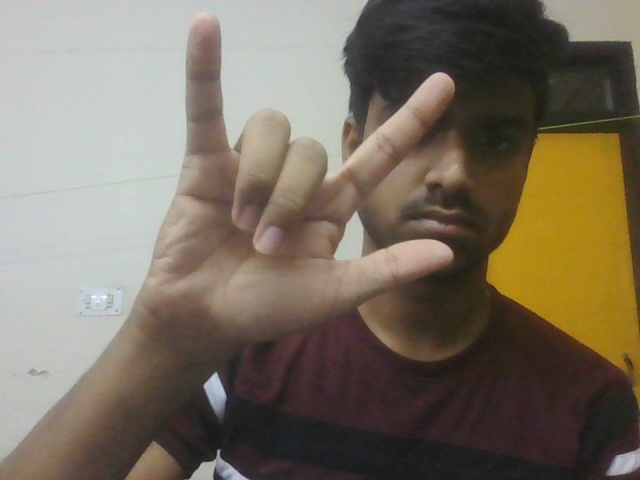iloveyou: (131, 7, 468, 372)
